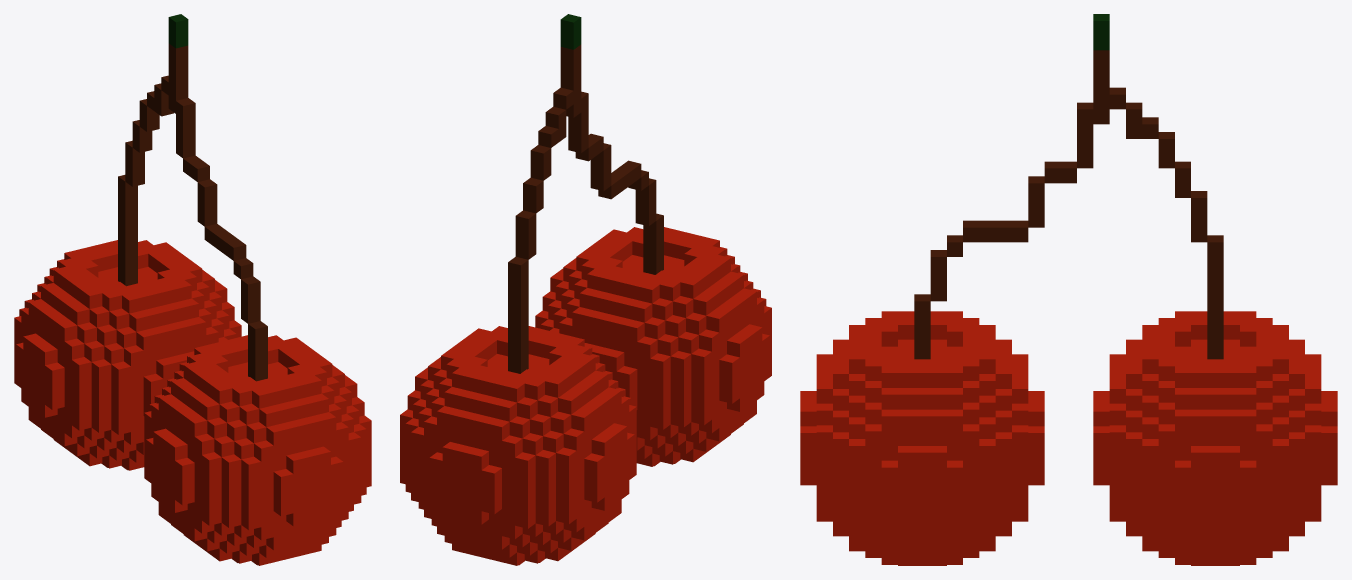
File: Cherry.fbx
3 views of the same model, side by side, from view 1: azimuth 30°, elevation 25°; view 2: azimuth 150°, elevation 25°; view 3: azimuth 270°, elevation 25° (orthographic). The views are drawn at different scales.
Parts seen in each view (by area): view 1: Untitled; view 2: Untitled; view 3: Untitled.
Part boxes in pixels (x1,y1,x2,y2): Untitled: [14, 14, 371, 565]; Untitled: [400, 14, 771, 565]; Untitled: [800, 14, 1337, 565].
Bounding box in the file's own units: 70.27 × 169 × 155.
